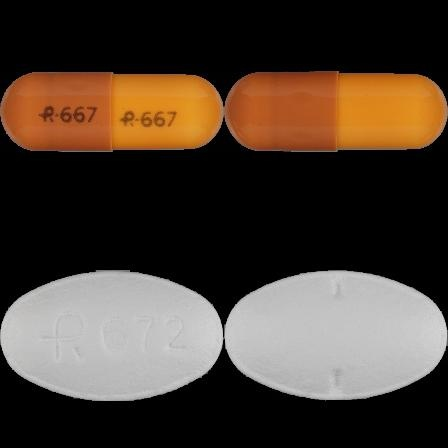0228-2667: (0, 0, 224, 224)
